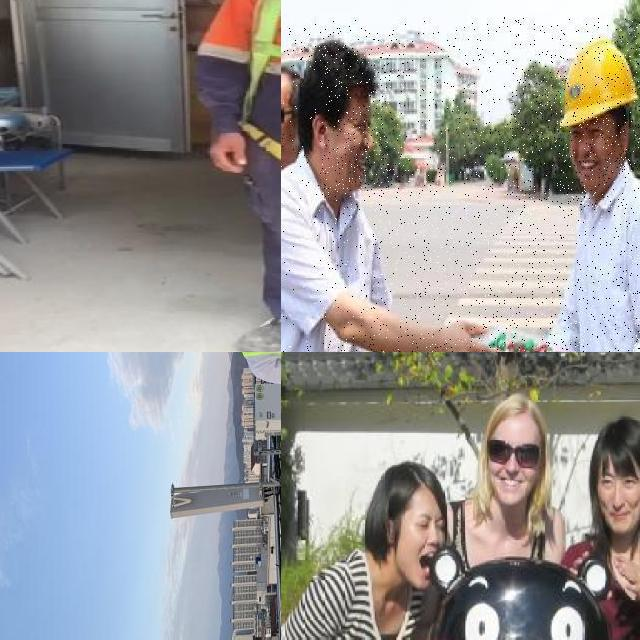No_Ear-Protection: (306, 111, 333, 156)
No_Glasses: (406, 509, 450, 538), (592, 469, 640, 493)
face_nomask: (403, 508, 450, 576), (595, 472, 640, 529)
glasses: (487, 434, 544, 467)
hand_noglove: (201, 126, 252, 179), (606, 545, 640, 601)
head_helmet: (558, 37, 639, 128)
head_nohelmet: (369, 458, 444, 506), (579, 421, 640, 473), (483, 392, 548, 428)
person: (281, 19, 507, 352), (479, 17, 640, 352), (182, 0, 281, 352), (281, 447, 446, 640), (438, 382, 572, 594), (554, 412, 640, 640), (281, 61, 322, 345)
shoes: (235, 307, 281, 352)
